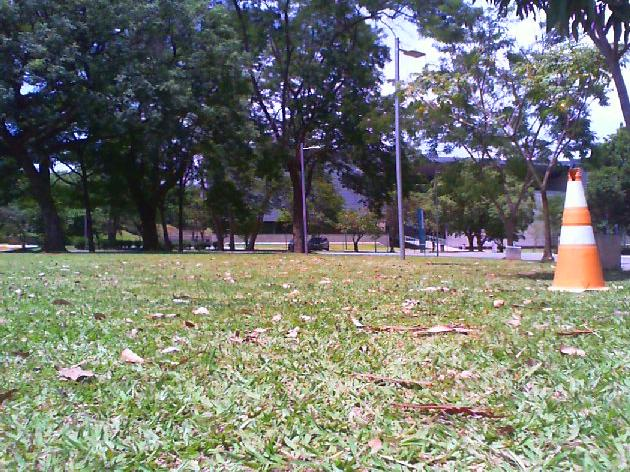0 cone: (548, 168, 612, 292)
